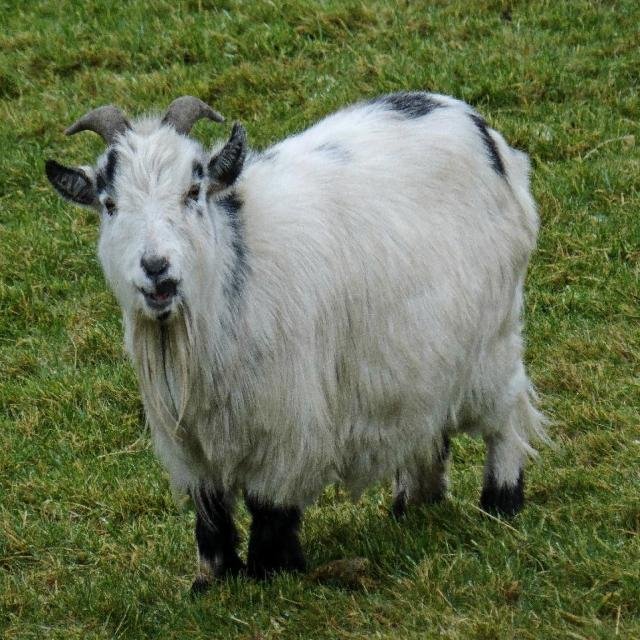Goat: (45, 87, 560, 594)
